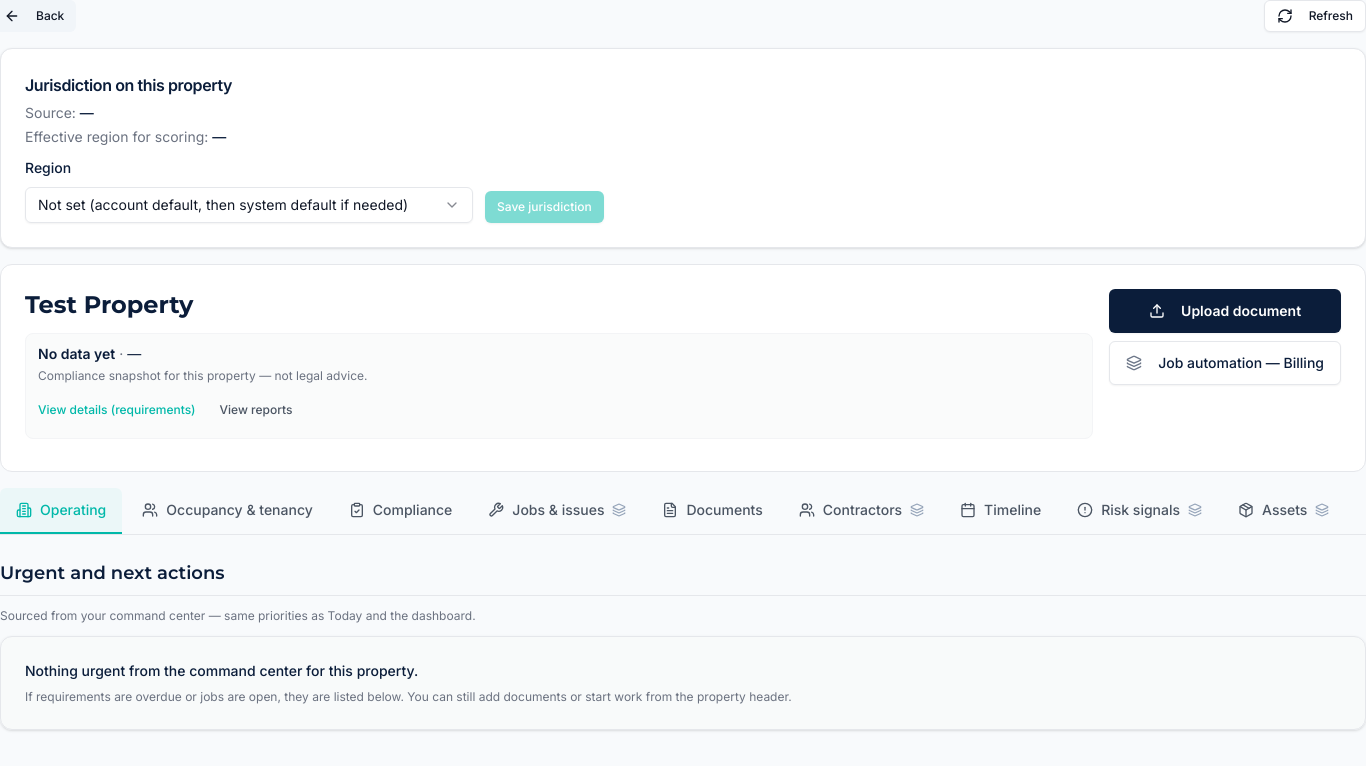
Test: PropertyDetailPage presentation authority alignment › mixed document-backed and declaration (Wales-style) — shows governed labels and API counts without frontend inference
Later steps or results of the test are not shown.
Click the button "Compliance": (401, 511) [333,488,468,534]
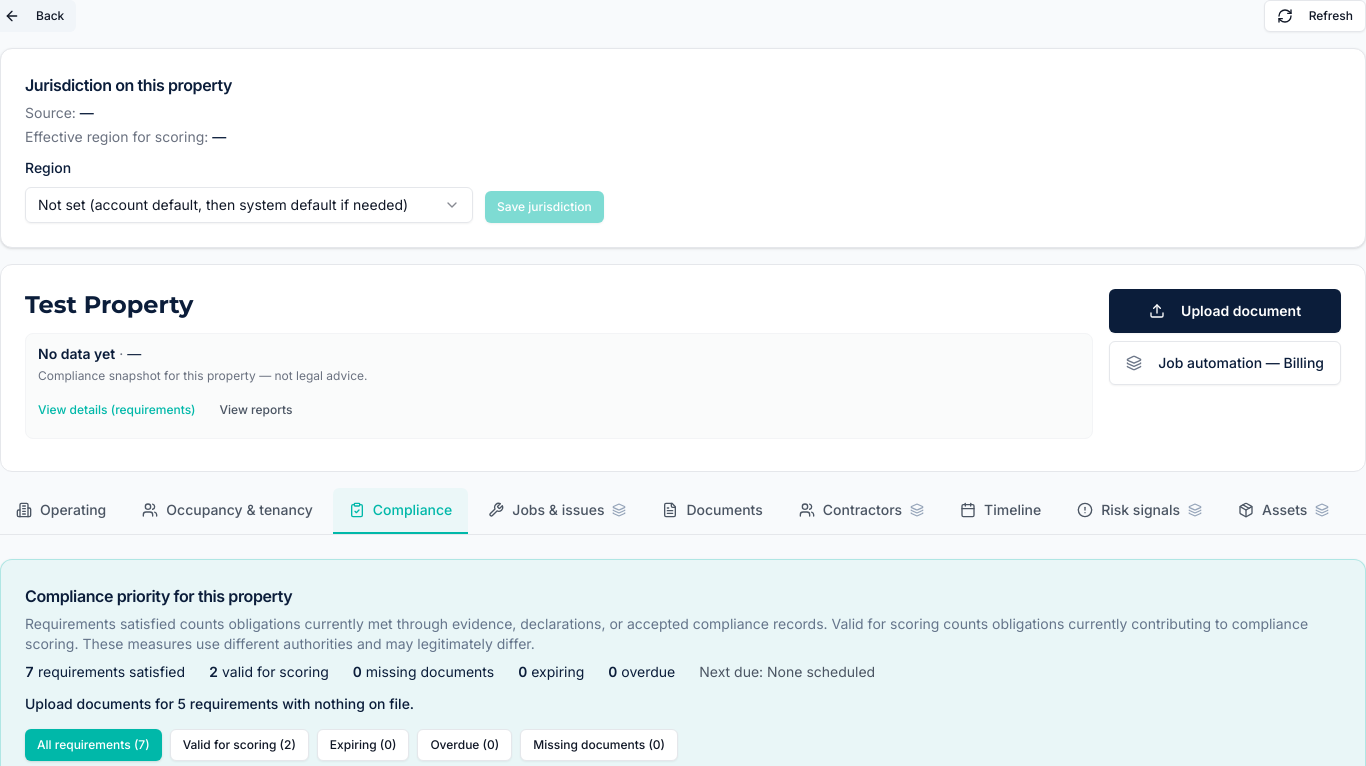
Now the element titled "Visible requirements with recorded evidence on file — your lifecycle completion count." shows "7", box [25,663,34,680]
Now the text "may legitimately differ" is shown, box [25,615,1308,652]
